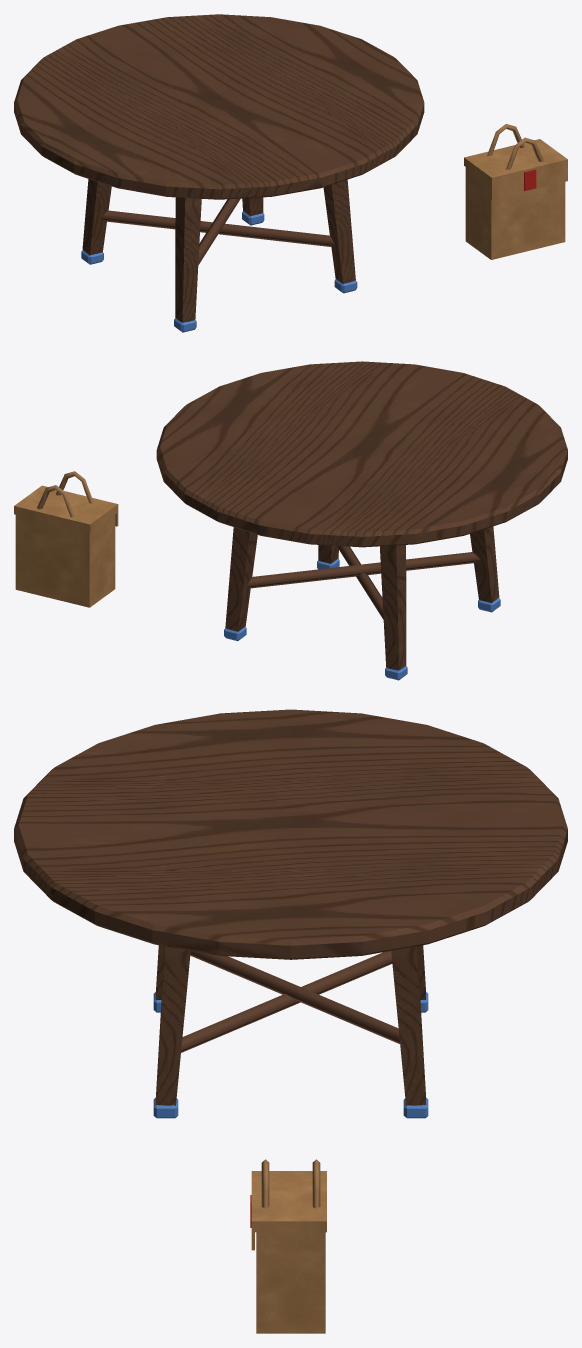
File: takeout.glb
3 renders of one model, top to bottom at view 1: azimuth 30°, elevation 25°; view 2: azimuth 150°, elevation 25°; view 3: azimuth 270°, elevation 25°, orthographic. The views are drawn at different scales.
Parts seen in each view (by area): view 1: TakeoutStand, KraftBag; view 2: TakeoutStand, KraftBag; view 3: TakeoutStand, KraftBag.
Part boxes in pixels (left/top/right/bottom): TakeoutStand: left=14, top=14, right=424, bottom=332; KraftBag: left=464, top=124, right=567, bottom=259; TakeoutStand: left=156, top=361, right=567, bottom=680; KraftBag: left=14, top=471, right=118, bottom=607; TakeoutStand: left=14, top=709, right=567, bottom=1118; KraftBag: left=250, top=1159, right=326, bottom=1333.
Size of the model in its own units: 1.04 by 0.415 by 0.72.
Materials: 5 (2 with a texture image).
